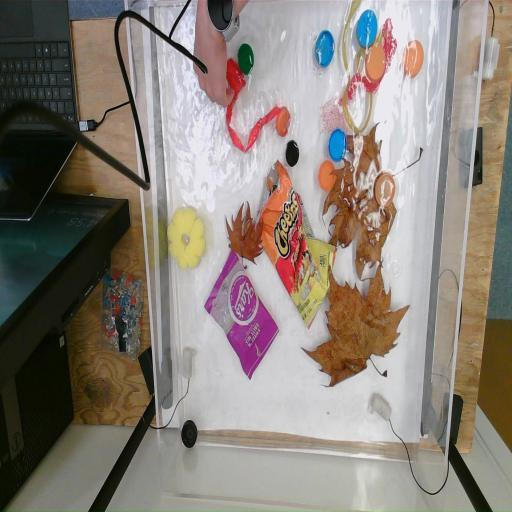Bottle Cap: (366, 42, 388, 86), (373, 165, 394, 208), (234, 42, 256, 75), (358, 10, 378, 46), (328, 125, 346, 160), (315, 33, 334, 65), (404, 39, 422, 72), (317, 158, 336, 188), (276, 102, 290, 138), (182, 419, 198, 450), (284, 138, 301, 166)
Cone Cap: (226, 55, 246, 87)
Leaf: (322, 125, 426, 282), (302, 264, 410, 392), (221, 201, 264, 268)
Netting: (320, 100, 351, 134), (378, 19, 398, 68)
Plastic Bag: (261, 158, 336, 326), (206, 248, 278, 380)
Plastic Strand: (224, 75, 281, 151), (341, 0, 373, 132)
Sponge: (166, 205, 206, 268)
